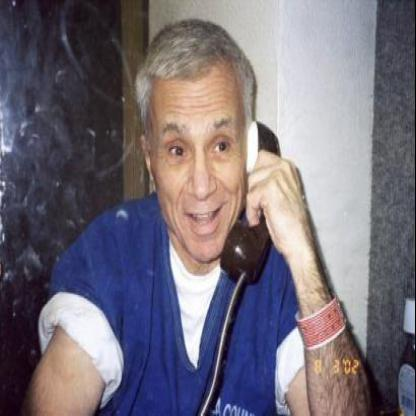face: (150, 26, 252, 265)
